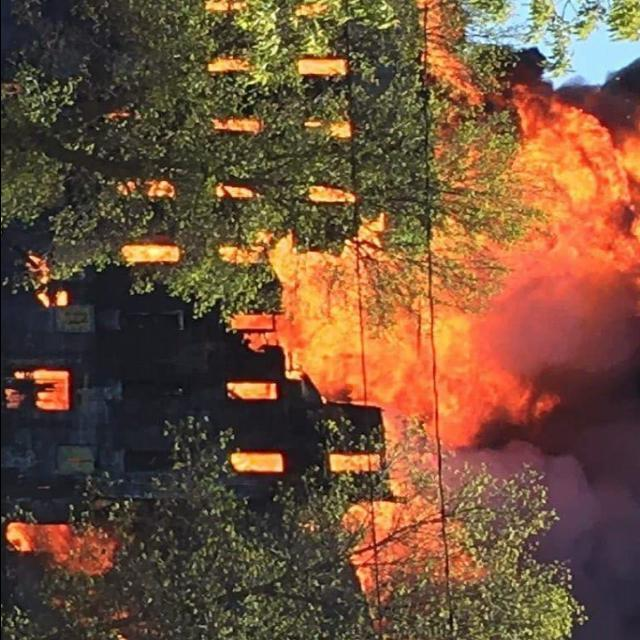Fire: (145, 26, 624, 606)
